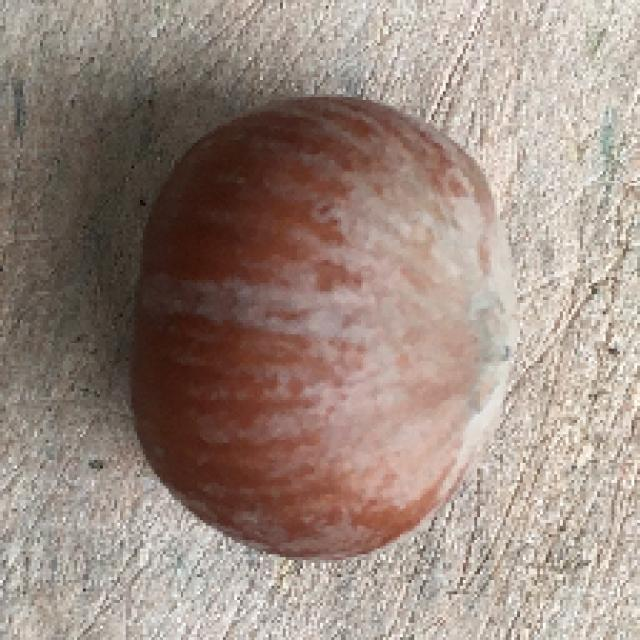qualityHazelnut: (114, 86, 521, 566)
